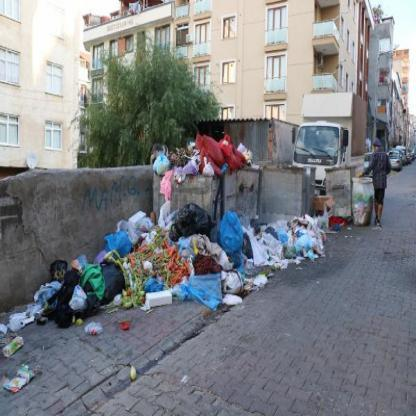Garbage: (102, 216, 172, 298), (25, 296, 134, 348), (266, 214, 341, 258), (0, 310, 41, 387), (76, 258, 200, 282), (127, 210, 178, 268), (180, 251, 218, 320), (183, 228, 235, 275), (243, 232, 290, 279), (121, 280, 171, 322), (292, 221, 326, 268), (219, 274, 256, 312), (216, 212, 249, 246), (126, 366, 154, 394)
